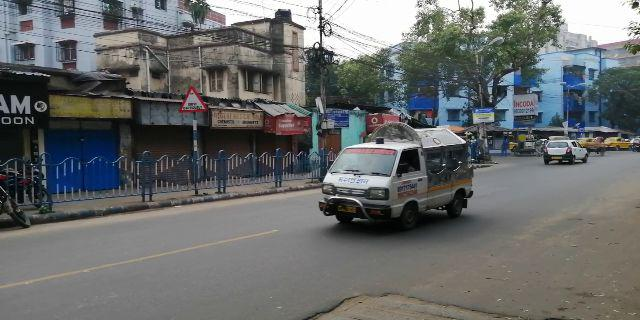Car: (542, 139, 593, 164)
Van: (316, 125, 478, 227)
